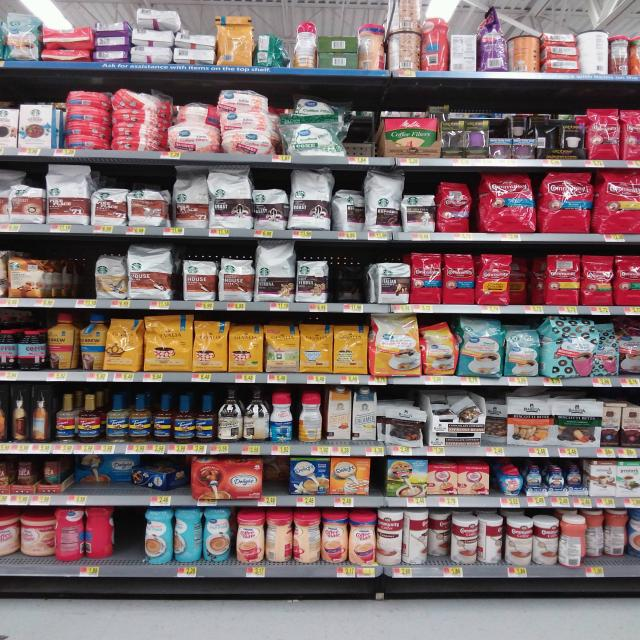void: (349, 78, 381, 164), (55, 236, 92, 306), (120, 508, 142, 576), (262, 461, 290, 508)
